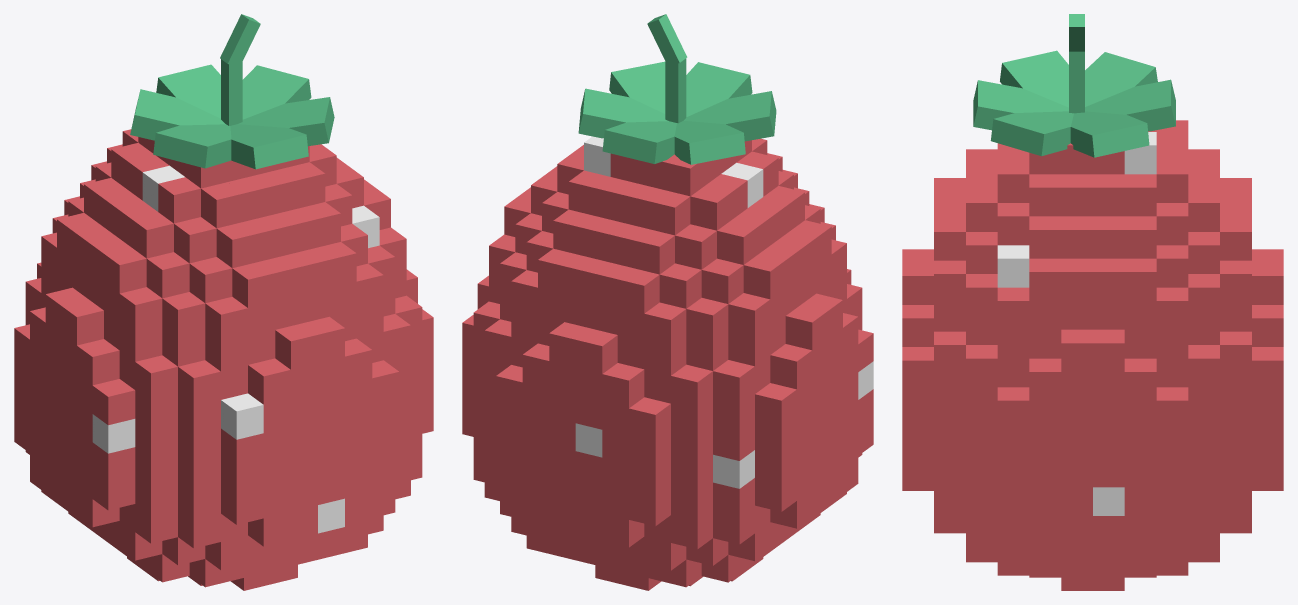
Rendered from Strawberry_Egg.glb.
The picture shows the model from 3 angles, left to right: view 1: azimuth 30°, elevation 25°; view 2: azimuth 150°, elevation 25°; view 3: azimuth 270°, elevation 25°; orthographic projection. The views are drawn at different scales.
Visible parts, largest first — view 1: Cube_copy_copy_copy_copy_copy_copy_copy_copy_copy_copy_copy_ (×67), Cube_copy_copy_copy_copy_copy_copy_copy_copy_copy, Cube_copy_copy_copy_2, Cube_copy_copy_copy, Cube_copy_4, Cube_copy_copy_copy_6, Cube_copy_1, Cube_copy_copy_copy_copy_copy_5, Cube_copy_copy_copy_9, Cube_copy_copy_copy_copy_copy_copy_copy_copy_1, Cube_copy_copy_copy_copy, Cube_copy_copy_copy_copy_copy_1 (+46 smaller); view 2: Cube_copy_copy_copy_copy_copy_copy_copy_copy_copy_copy_copy_ (×70), Cube, Cube_copy_copy_copy_copy_copy_15, Cube_copy_copy_1, Cube_copy_copy_copy_20, Cube_copy_copy_4, Cube_copy_copy_copy_copy_copy_copy_copy_25, Cube_copy_copy_copy_copy_copy_17, Cube_copy_copy_copy_copy_copy_copy_copy_copy_copy_copy_5, Cube_copy_copy_copy_copy_copy_copy_21, Cube_copy_copy_copy_copy_copy_copy_copy_copy_22, Cube_copy_copy_copy_3 (+46 smaller); view 3: Cube_copy_copy_copy_copy_copy_copy_copy_copy_copy_copy_copy_ (×81), Cube_copy_copy_copy_16, Cube_copy_copy_copy_copy_11, Cube_copy_5, Cube_copy_copy_12, Cube_copy_copy_copy_copy_copy_copy_copy_copy_copy_copy_3, Cube_copy_copy_copy_copy_4, Cube_copy_copy_copy_copy_6, Cube_copy_copy_copy_copy_copy_copy_12, Cube_copy_copy_copy_copy_copy_copy_copy_copy_copy_copy_2, Cube_copy_copy_copy_13, Cube_copy_copy_copy_copy_9 (+58 smaller).
Boxes of the visible parts, bbox=[...] form: Cube_copy_copy_copy_copy_copy_copy_copy_copy_copy_copy_copy_ (×67): bbox=[41, 14, 422, 587]; Cube_copy_copy_copy_copy_copy_copy_copy_copy_copy: bbox=[119, 287, 162, 333]; Cube_copy_copy_copy_2: bbox=[92, 379, 135, 425]; Cube_copy_copy_copy: bbox=[61, 299, 103, 345]; Cube_copy_4: bbox=[248, 358, 290, 404]; Cube_copy_copy_copy_6: bbox=[275, 323, 317, 369]; Cube_copy_1: bbox=[77, 339, 119, 385]; Cube_copy_copy_copy_copy_copy_5: bbox=[135, 355, 177, 401]; Cube_copy_copy_copy_9: bbox=[221, 393, 263, 439]; Cube_copy_copy_copy_copy_copy_copy_copy_copy_1: bbox=[119, 322, 162, 361]; Cube_copy_copy_copy_copy: bbox=[92, 414, 135, 453]; Cube_copy_copy_copy_copy_copy_1: bbox=[92, 442, 135, 481]; Cube_copy_copy_copy_copy_copy_copy_copy_copy_copy_copy_copy_ (×70): bbox=[484, 14, 831, 587]; Cube: bbox=[770, 344, 812, 389]; Cube_copy_copy_copy_copy_copy_15: bbox=[575, 328, 617, 373]; Cube_copy_copy_1: bbox=[785, 305, 827, 350]; Cube_copy_copy_copy_20: bbox=[602, 363, 644, 408]; Cube_copy_copy_4: bbox=[755, 383, 796, 428]; Cube_copy_copy_copy_copy_copy_copy_copy_25: bbox=[671, 364, 712, 409]; Cube_copy_copy_copy_copy_copy_17: bbox=[629, 397, 670, 442]; Cube_copy_copy_copy_copy_copy_copy_copy_copy_copy_copy_5: bbox=[644, 337, 686, 375]; Cube_copy_copy_copy_copy_copy_copy_21: bbox=[629, 432, 670, 470]; Cube_copy_copy_copy_copy_copy_copy_copy_copy_22: bbox=[671, 455, 712, 493]; Cube_copy_copy_copy_3: bbox=[755, 417, 796, 456]; Cube_copy_copy_copy_copy_copy_copy_copy_copy_copy_copy_copy_ (×81): bbox=[934, 14, 1251, 590]; Cube_copy_copy_copy_16: bbox=[997, 387, 1029, 429]; Cube_copy_copy_copy_copy_11: bbox=[1156, 387, 1188, 429]; Cube_copy_5: bbox=[1029, 358, 1061, 400]; Cube_copy_copy_12: bbox=[1124, 358, 1156, 400]; Cube_copy_copy_copy_copy_copy_copy_copy_copy_copy_copy_3: bbox=[1156, 287, 1188, 329]; Cube_copy_copy_copy_copy_4: bbox=[902, 262, 933, 304]; Cube_copy_copy_copy_copy_6: bbox=[902, 347, 933, 389]; Cube_copy_copy_copy_copy_copy_copy_12: bbox=[934, 331, 965, 373]; Cube_copy_copy_copy_copy_copy_copy_copy_copy_copy_copy_2: bbox=[934, 260, 965, 302]; Cube_copy_copy_copy_13: bbox=[1061, 329, 1092, 371]; Cube_copy_copy_copy_copy_9: bbox=[1093, 329, 1124, 371].
Bounding box in the file's own units: 1.2 × 1.89 × 1.2.
